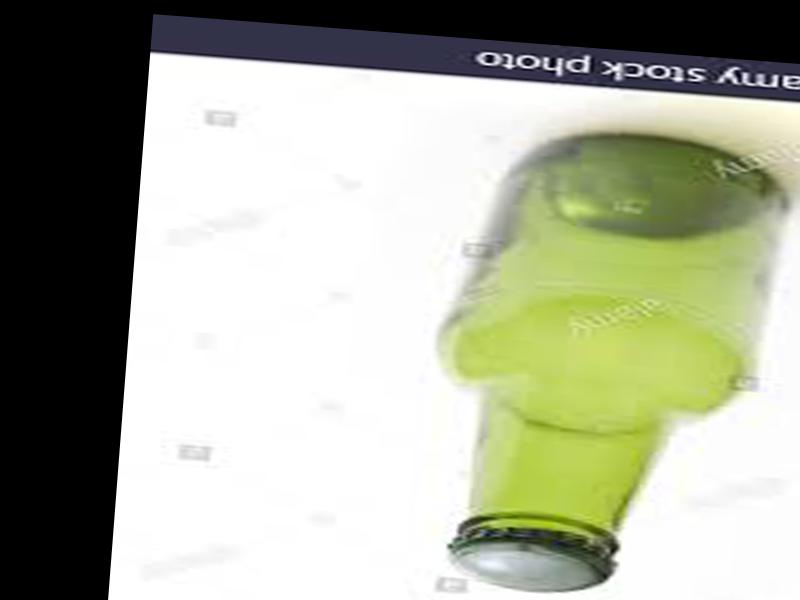Beer: (444, 123, 790, 600)
